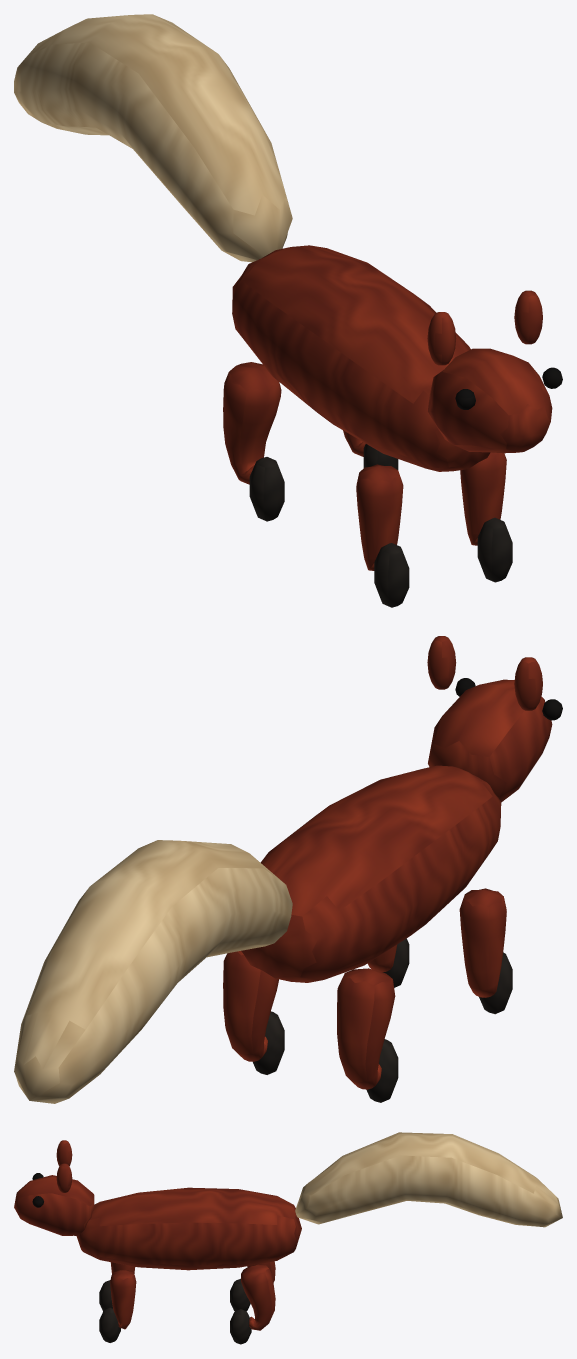
The model's file is animal_malabar_squirrel.glb.
The picture shows the model from 3 angles, top to bottom: view 1: azimuth 30°, elevation 25°; view 2: azimuth 150°, elevation 25°; view 3: azimuth 270°, elevation 25°; orthographic projection. The views are drawn at different scales.
Parts seen in each view (by area): view 1: Tail.008, Body.008, Head.008, Leg_BL.005, Leg_FL.008, Leg_FR.008, Leg_BL_Foot.005, Leg_FL_Foot.005, Leg_FR_Foot.005; view 2: Tail.008, Body.008, Head.008, Leg_BL.005, Leg_BR.005, Leg_FL.008, Leg_BL_Foot.005, Leg_BR_Foot.005, Leg_FL_Foot.005, Leg_FR_Foot.005, Eyes.008; view 3: Tail.008, Body.008, Head.008, Leg_BR.005, Leg_FR.008, Leg_BR_Foot.005, Leg_FR_Foot.005, Leg_BL_Foot.005, Leg_FL_Foot.005.
Part boxes in pixels (box(x1,y1,x2,y2)): Tail.008: box(14, 14, 292, 262); Body.008: box(232, 245, 490, 471); Head.008: box(427, 290, 552, 453); Leg_BL.005: box(223, 362, 281, 484); Leg_FL.008: box(356, 464, 403, 570); Leg_FR.008: box(460, 452, 506, 545); Leg_BL_Foot.005: box(249, 457, 284, 521); Leg_FL_Foot.005: box(374, 543, 409, 607); Leg_FR_Foot.005: box(477, 517, 512, 582); Tail.008: box(14, 840, 292, 1103); Body.008: box(241, 765, 501, 982); Head.008: box(427, 636, 552, 802); Leg_BL.005: box(337, 968, 395, 1089); Leg_BR.005: box(223, 951, 278, 1061); Leg_FL.008: box(459, 888, 506, 997); Leg_BL_Foot.005: box(366, 1039, 398, 1102); Leg_BR_Foot.005: box(253, 1011, 284, 1074); Leg_FL_Foot.005: box(479, 952, 512, 1014); Leg_FR_Foot.005: box(383, 938, 409, 987); Eyes.008: box(455, 678, 562, 720); Tail.008: box(295, 1132, 562, 1227); Body.008: box(76, 1187, 301, 1270); Head.008: box(14, 1140, 94, 1236); Leg_BR.005: box(241, 1264, 275, 1330); Leg_FR.008: box(110, 1270, 136, 1329); Leg_BR_Foot.005: box(230, 1309, 251, 1344); Leg_FR_Foot.005: box(99, 1307, 120, 1342); Leg_BL_Foot.005: box(230, 1278, 250, 1311); Leg_FL_Foot.005: box(99, 1280, 112, 1311).
Bounding box in the file's own units: 0.1593 × 0.3271 × 0.8406.
4 materials, 4 textured.
